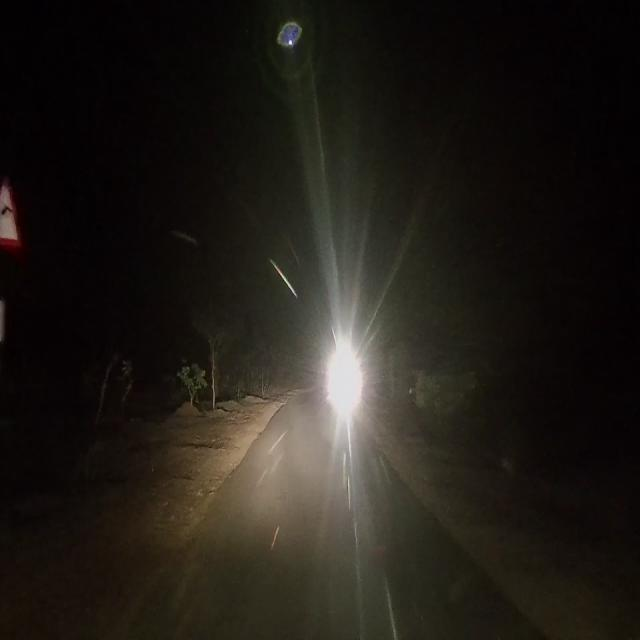right-hand-curve: (0, 182, 20, 246)
